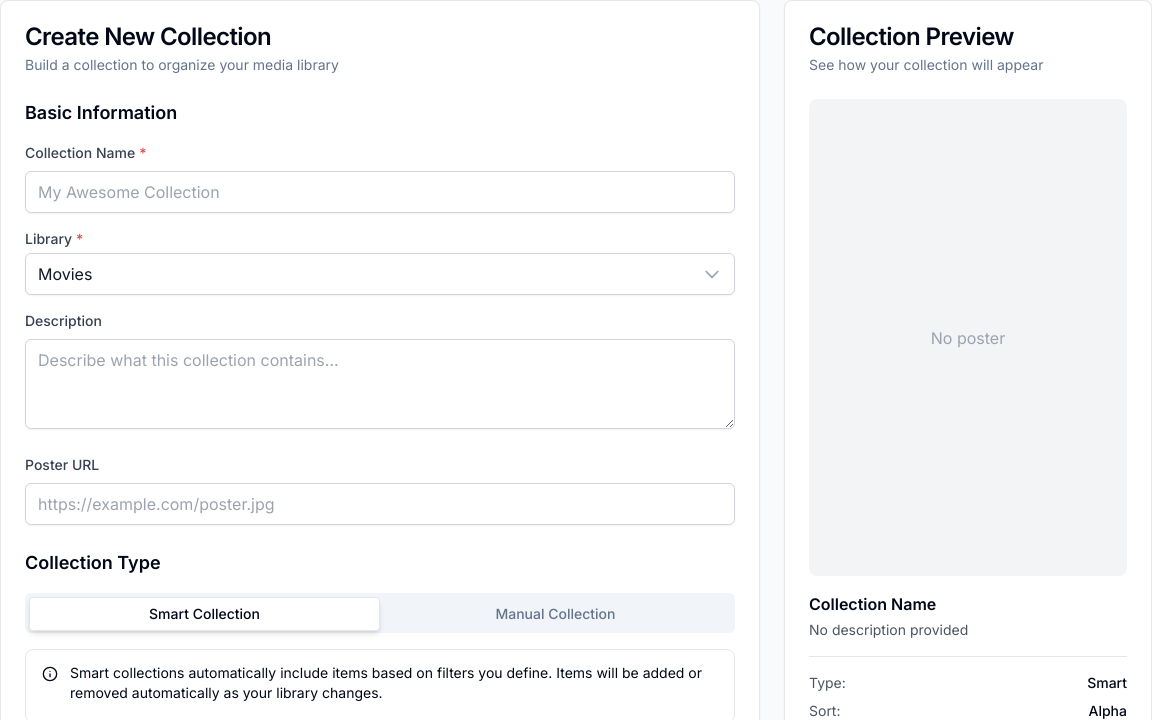
Test: CollectionBuilder › resets form when reset button is clicked
This screenshot has width=1152, height=720.
# Fill in some data
Step 1. Type "Test Collection" into the field labelled "Collection Name" → (380, 192), box [25,171,735,213]
(page scrolled)
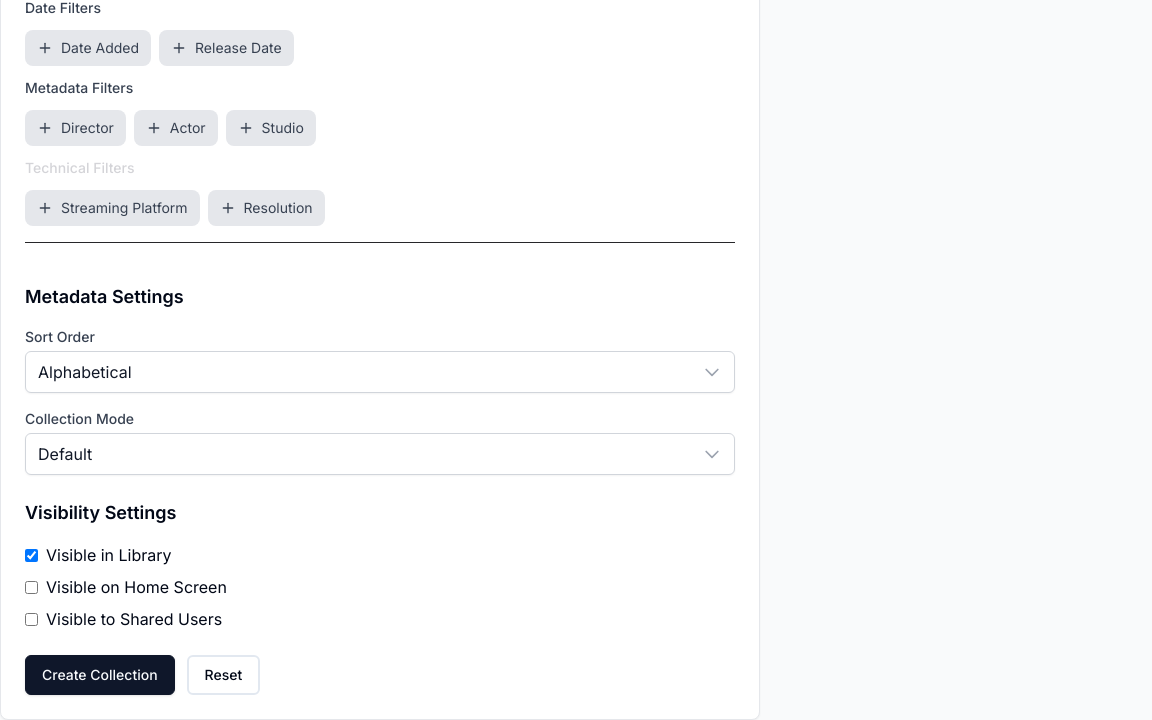
# Click reset
Step 2. Click the button "Reset" → (223, 675), box [187,655,260,695]
(page scrolled)
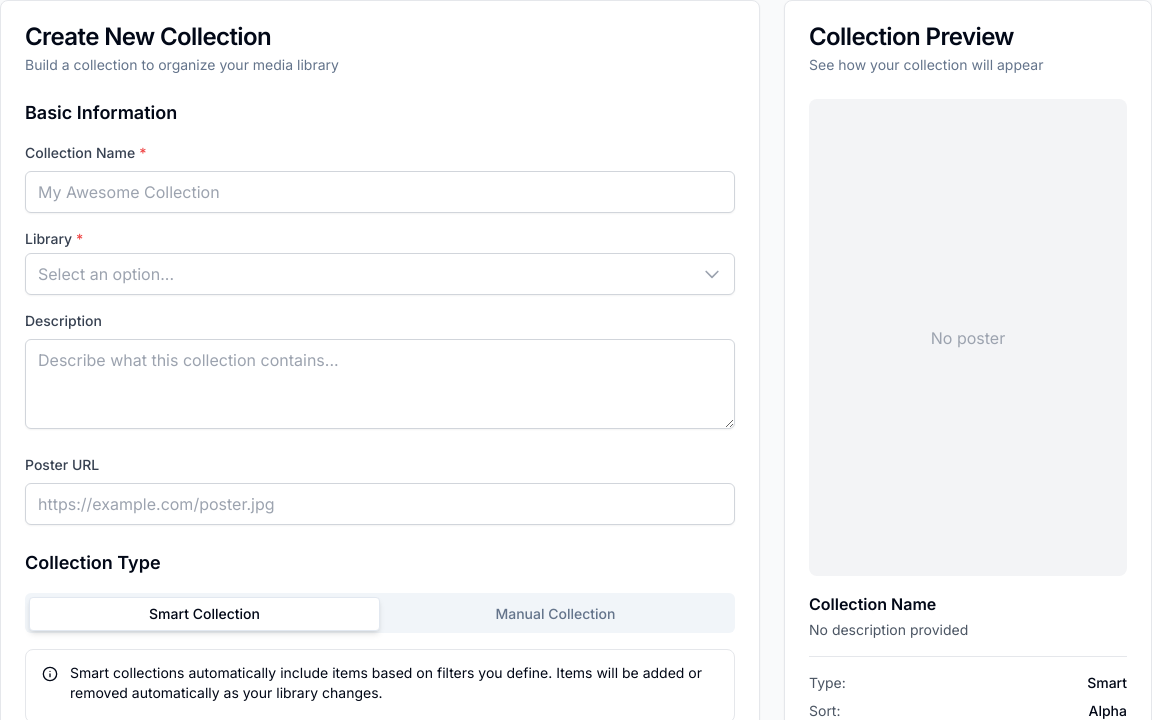
Expected: the field labelled "Collection Name" is empty, [25,171,735,213]
